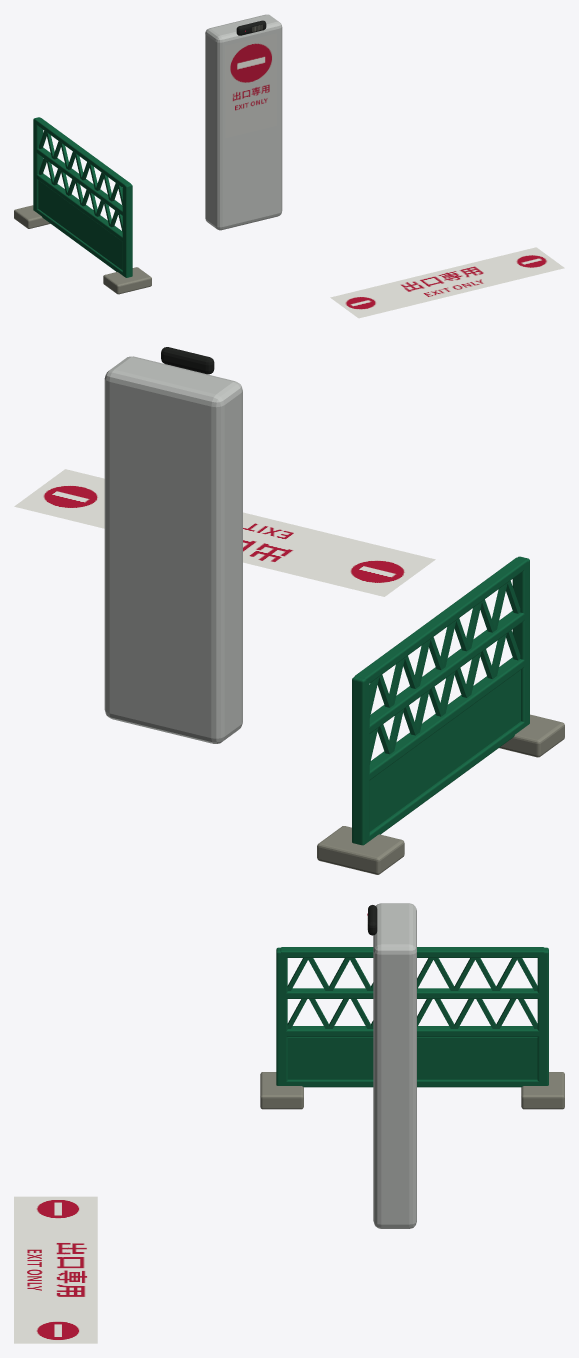
File: passage_props_placed_STUDY_ONLY_v003-DnQypkGH.glb
3 views of the same model, one above another, from view 1: azimuth 30°, elevation 25°; view 2: azimuth 150°, elevation 25°; view 3: azimuth 270°, elevation 25° (orthographic). The views are drawn at different scales.
Parts seen in each view (by area): view 1: passage_props_placed_STUDY_ONLY_v003; view 2: passage_props_placed_STUDY_ONLY_v003; view 3: passage_props_placed_STUDY_ONLY_v003.
Boxes of the visible parts, x1,y1,x2,y2 form: passage_props_placed_STUDY_ONLY_v003: (14, 14, 564, 318); passage_props_placed_STUDY_ONLY_v003: (14, 347, 564, 874); passage_props_placed_STUDY_ONLY_v003: (14, 903, 564, 1343).
Size of the model in its own units: 3.52 by 1.87 by 3.17.
2 materials, 1 textured.
